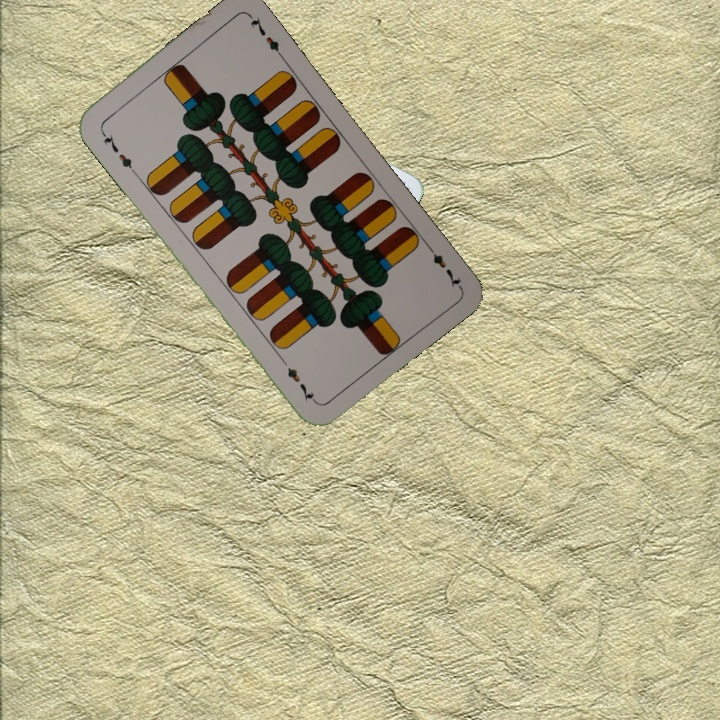E7: (422, 239, 464, 290), (96, 126, 137, 176)
